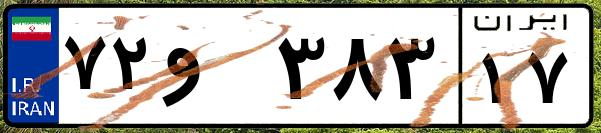1: (475, 38, 525, 113)
2: (110, 28, 158, 98)
3: (270, 28, 330, 110), (385, 28, 445, 110)
7: (57, 26, 110, 100), (525, 38, 570, 115)
8: (330, 28, 385, 110)
و: (158, 20, 270, 120)
